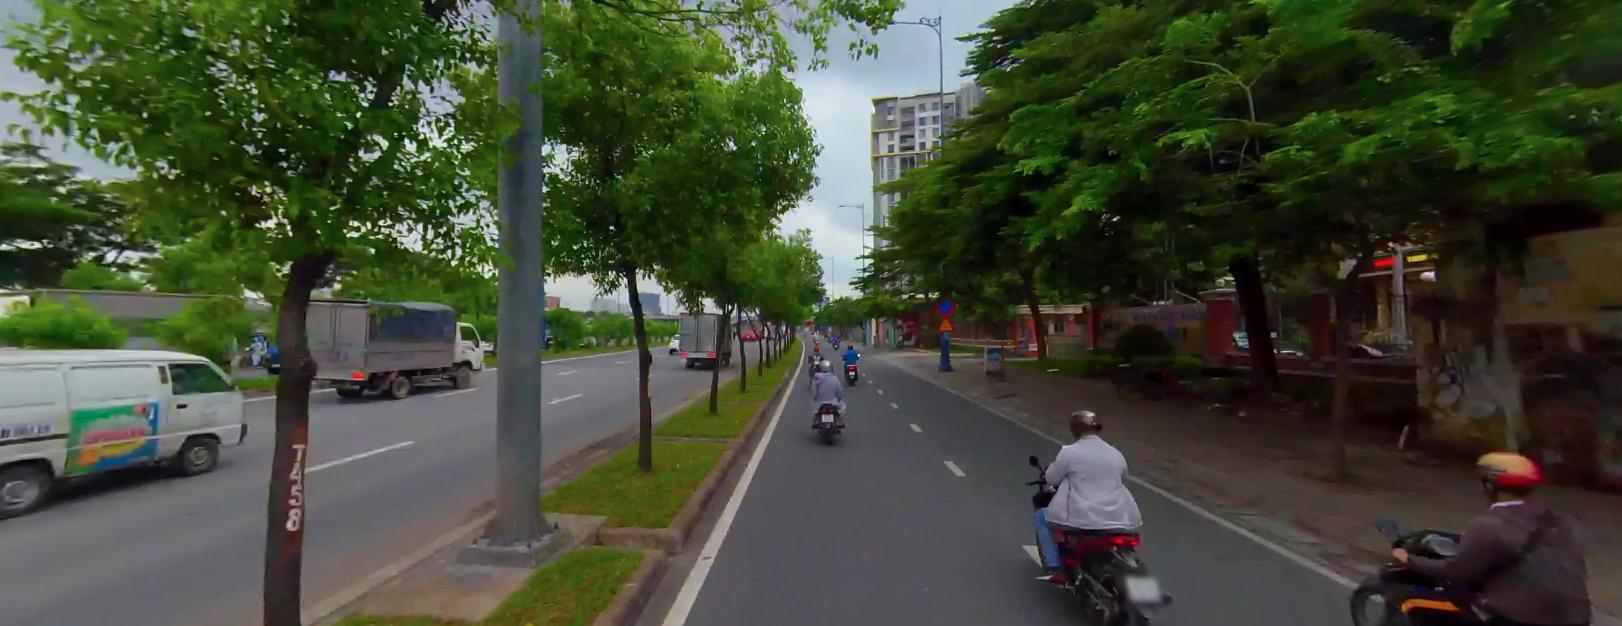Cam dung va do: (934, 295, 954, 315)
Nguy hiem: (937, 316, 952, 330)
